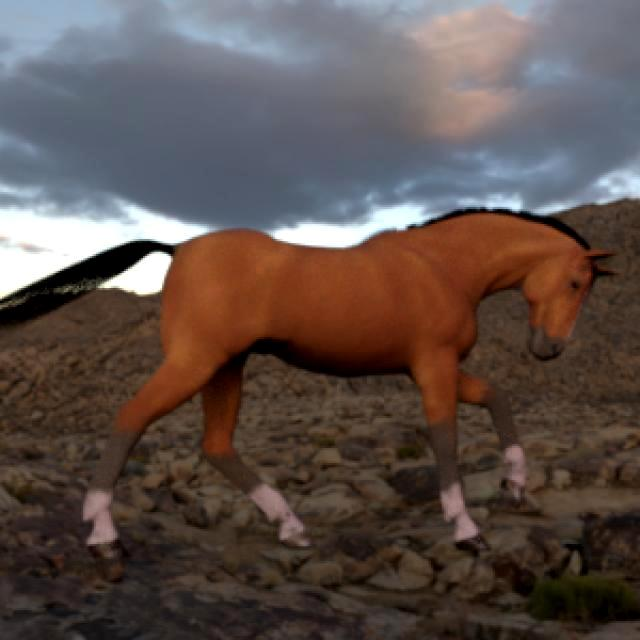horse: (0, 210, 612, 558)
